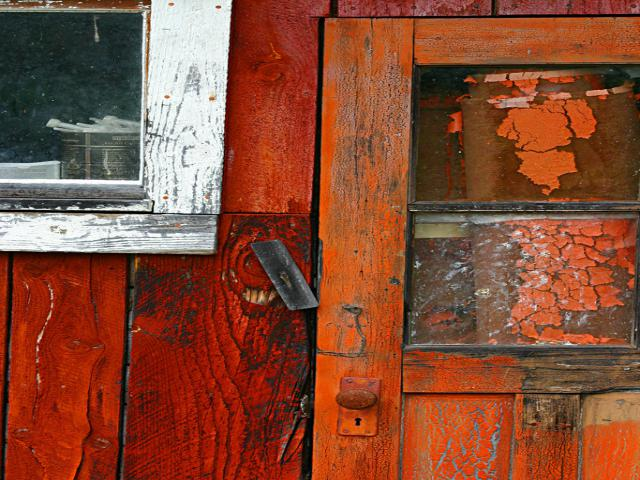Door-handle: (334, 378, 380, 436)
